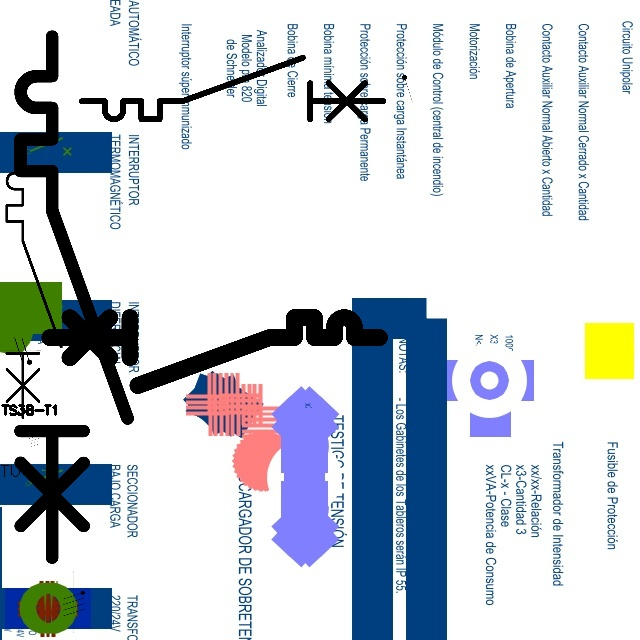interruptor_termomagnetico: (7, 23, 141, 571), (41, 309, 388, 394), (74, 50, 391, 127), (0, 146, 68, 424)
